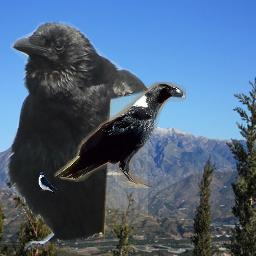Crow: (2, 20, 148, 251), (54, 82, 186, 188)
Swallow: (38, 172, 58, 194)
